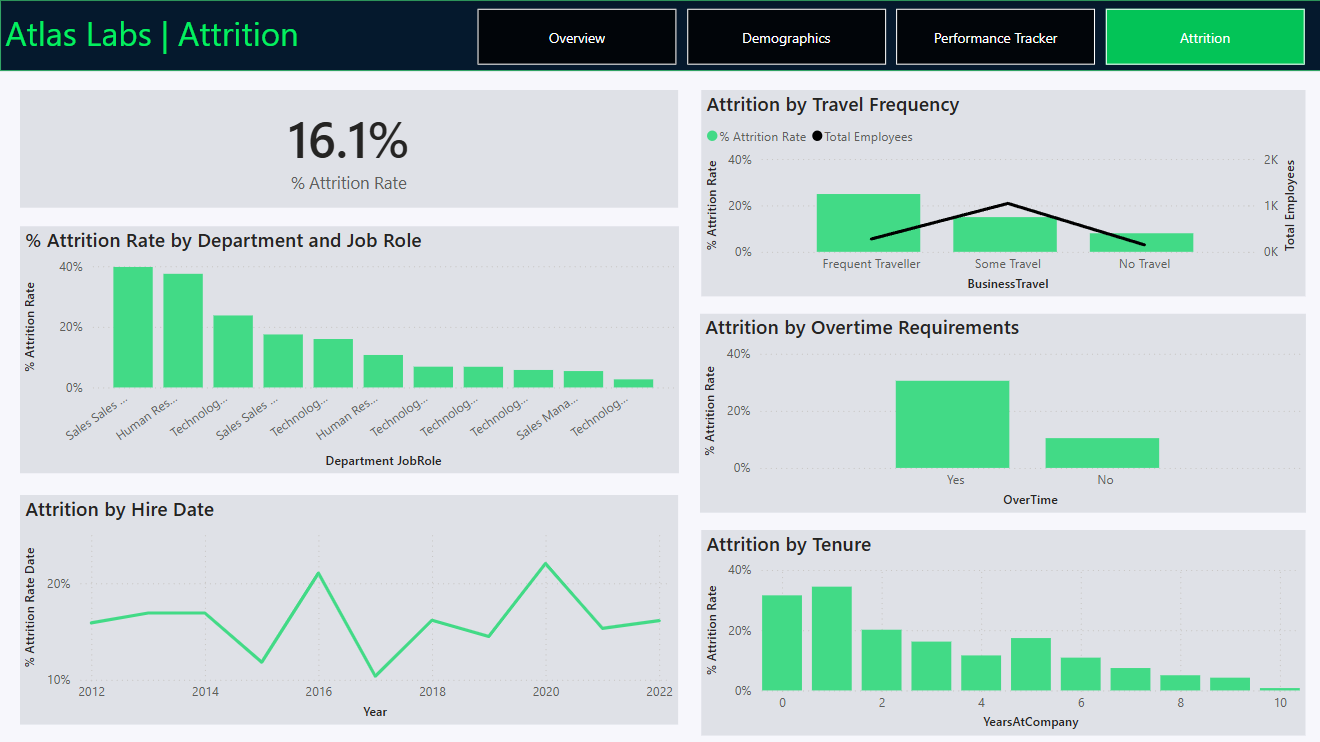

What the dashboard file says about the page in this screenshot:
{"tool":"powerbi","page":{"name":"Attrition ","canvas":[1280,720],"ordinal":3},"visuals":[{"type":"card","fields":{"Values":["__Measures.% Attrition Rate"]},"box":[19.7,87.4,635.1,113.2],"z":0},{"type":"columnChart","title":"% Attrition Rate by Department and Job Role","fields":{"Y":["__Measures.% Attrition Rate"],"Category":["DimEmployee.Department","DimEmployee.JobRole"]},"box":[19.7,217.8,636.3,238.8],"z":1000},{"type":"lineChart","title":"Attrition by Hire Date","fields":{"Category":["DimDate.Date.Variation.Date Hierarchy.Year","DimDate.Date.Variation.Date Hierarchy.Quarter","DimDate.Date.Variation.Date Hierarchy.Month","DimDate.Date.Variation.Date Hierarchy.Day"],"Y":["__Measures.% Attrition Rate Date"]},"box":[19.7,477.5,635.1,221.5],"z":2000},{"type":"lineStackedColumnComboChart","title":"Attrition by Travel Frequency","fields":{"Category":["DimEmployee.BusinessTravel"],"Y":["__Measures.% Attrition Rate"],"Y2":["__Measures.Total Employees"]},"box":[676.9,87.4,583.4,199.4],"z":3000},{"type":"lineStackedColumnComboChart","title":"Attrition by Overtime Requirements","fields":{"Y":["__Measures.% Attrition Rate"],"Category":["DimEmployee.OverTime"]},"box":[675.7,302.8,584.6,192],"z":4000},{"type":"columnChart","title":"Attrition by Tenure","fields":{"Y":["__Measures.% Attrition Rate"],"Category":["DimEmployee.YearsAtCompany"]},"box":[676.9,512,583.4,198.2],"z":5000},{"type":"shape","box":[0,0,1280,68.6],"z":6000},{"type":"textbox","box":[0,4.6,400.8,57.9],"z":7000},{"type":"pageNavigator","box":[460.3,8.6,800,54.2],"z":8000}]}

Visuals, with their boxes in screenshot pixels (x1, y1, x2, y2), scaled from the page's 1280x720 canvas onto the 1320x742 screenshot:
card - __Measures.% Attrition Rate: rect(20, 90, 675, 207)
"% Attrition Rate by Department and Job Role" columnChart: rect(20, 224, 676, 471)
"Attrition by Hire Date" lineChart: rect(20, 492, 675, 720)
"Attrition by Travel Frequency" lineStackedColumnComboChart: rect(698, 90, 1300, 296)
"Attrition by Overtime Requirements" lineStackedColumnComboChart: rect(697, 312, 1300, 510)
"Attrition by Tenure" columnChart: rect(698, 528, 1300, 732)
shape: rect(0, 0, 1319, 71)
textbox: rect(0, 5, 413, 64)
pageNavigator: rect(475, 9, 1300, 65)
